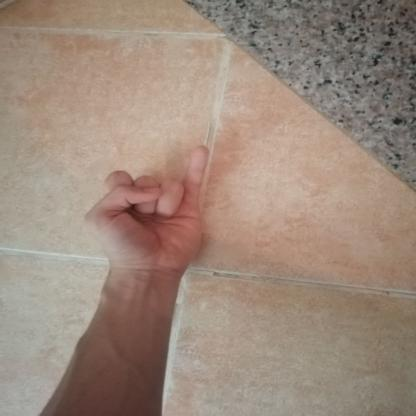MEEM: (68, 135, 222, 287)
